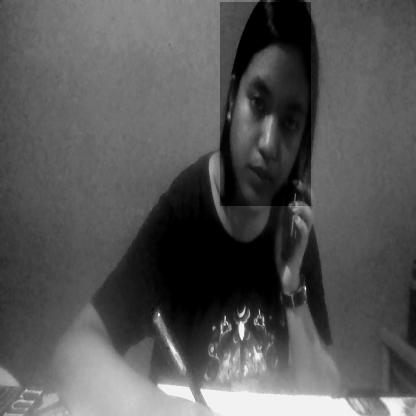Normal: (220, 2, 311, 206)
